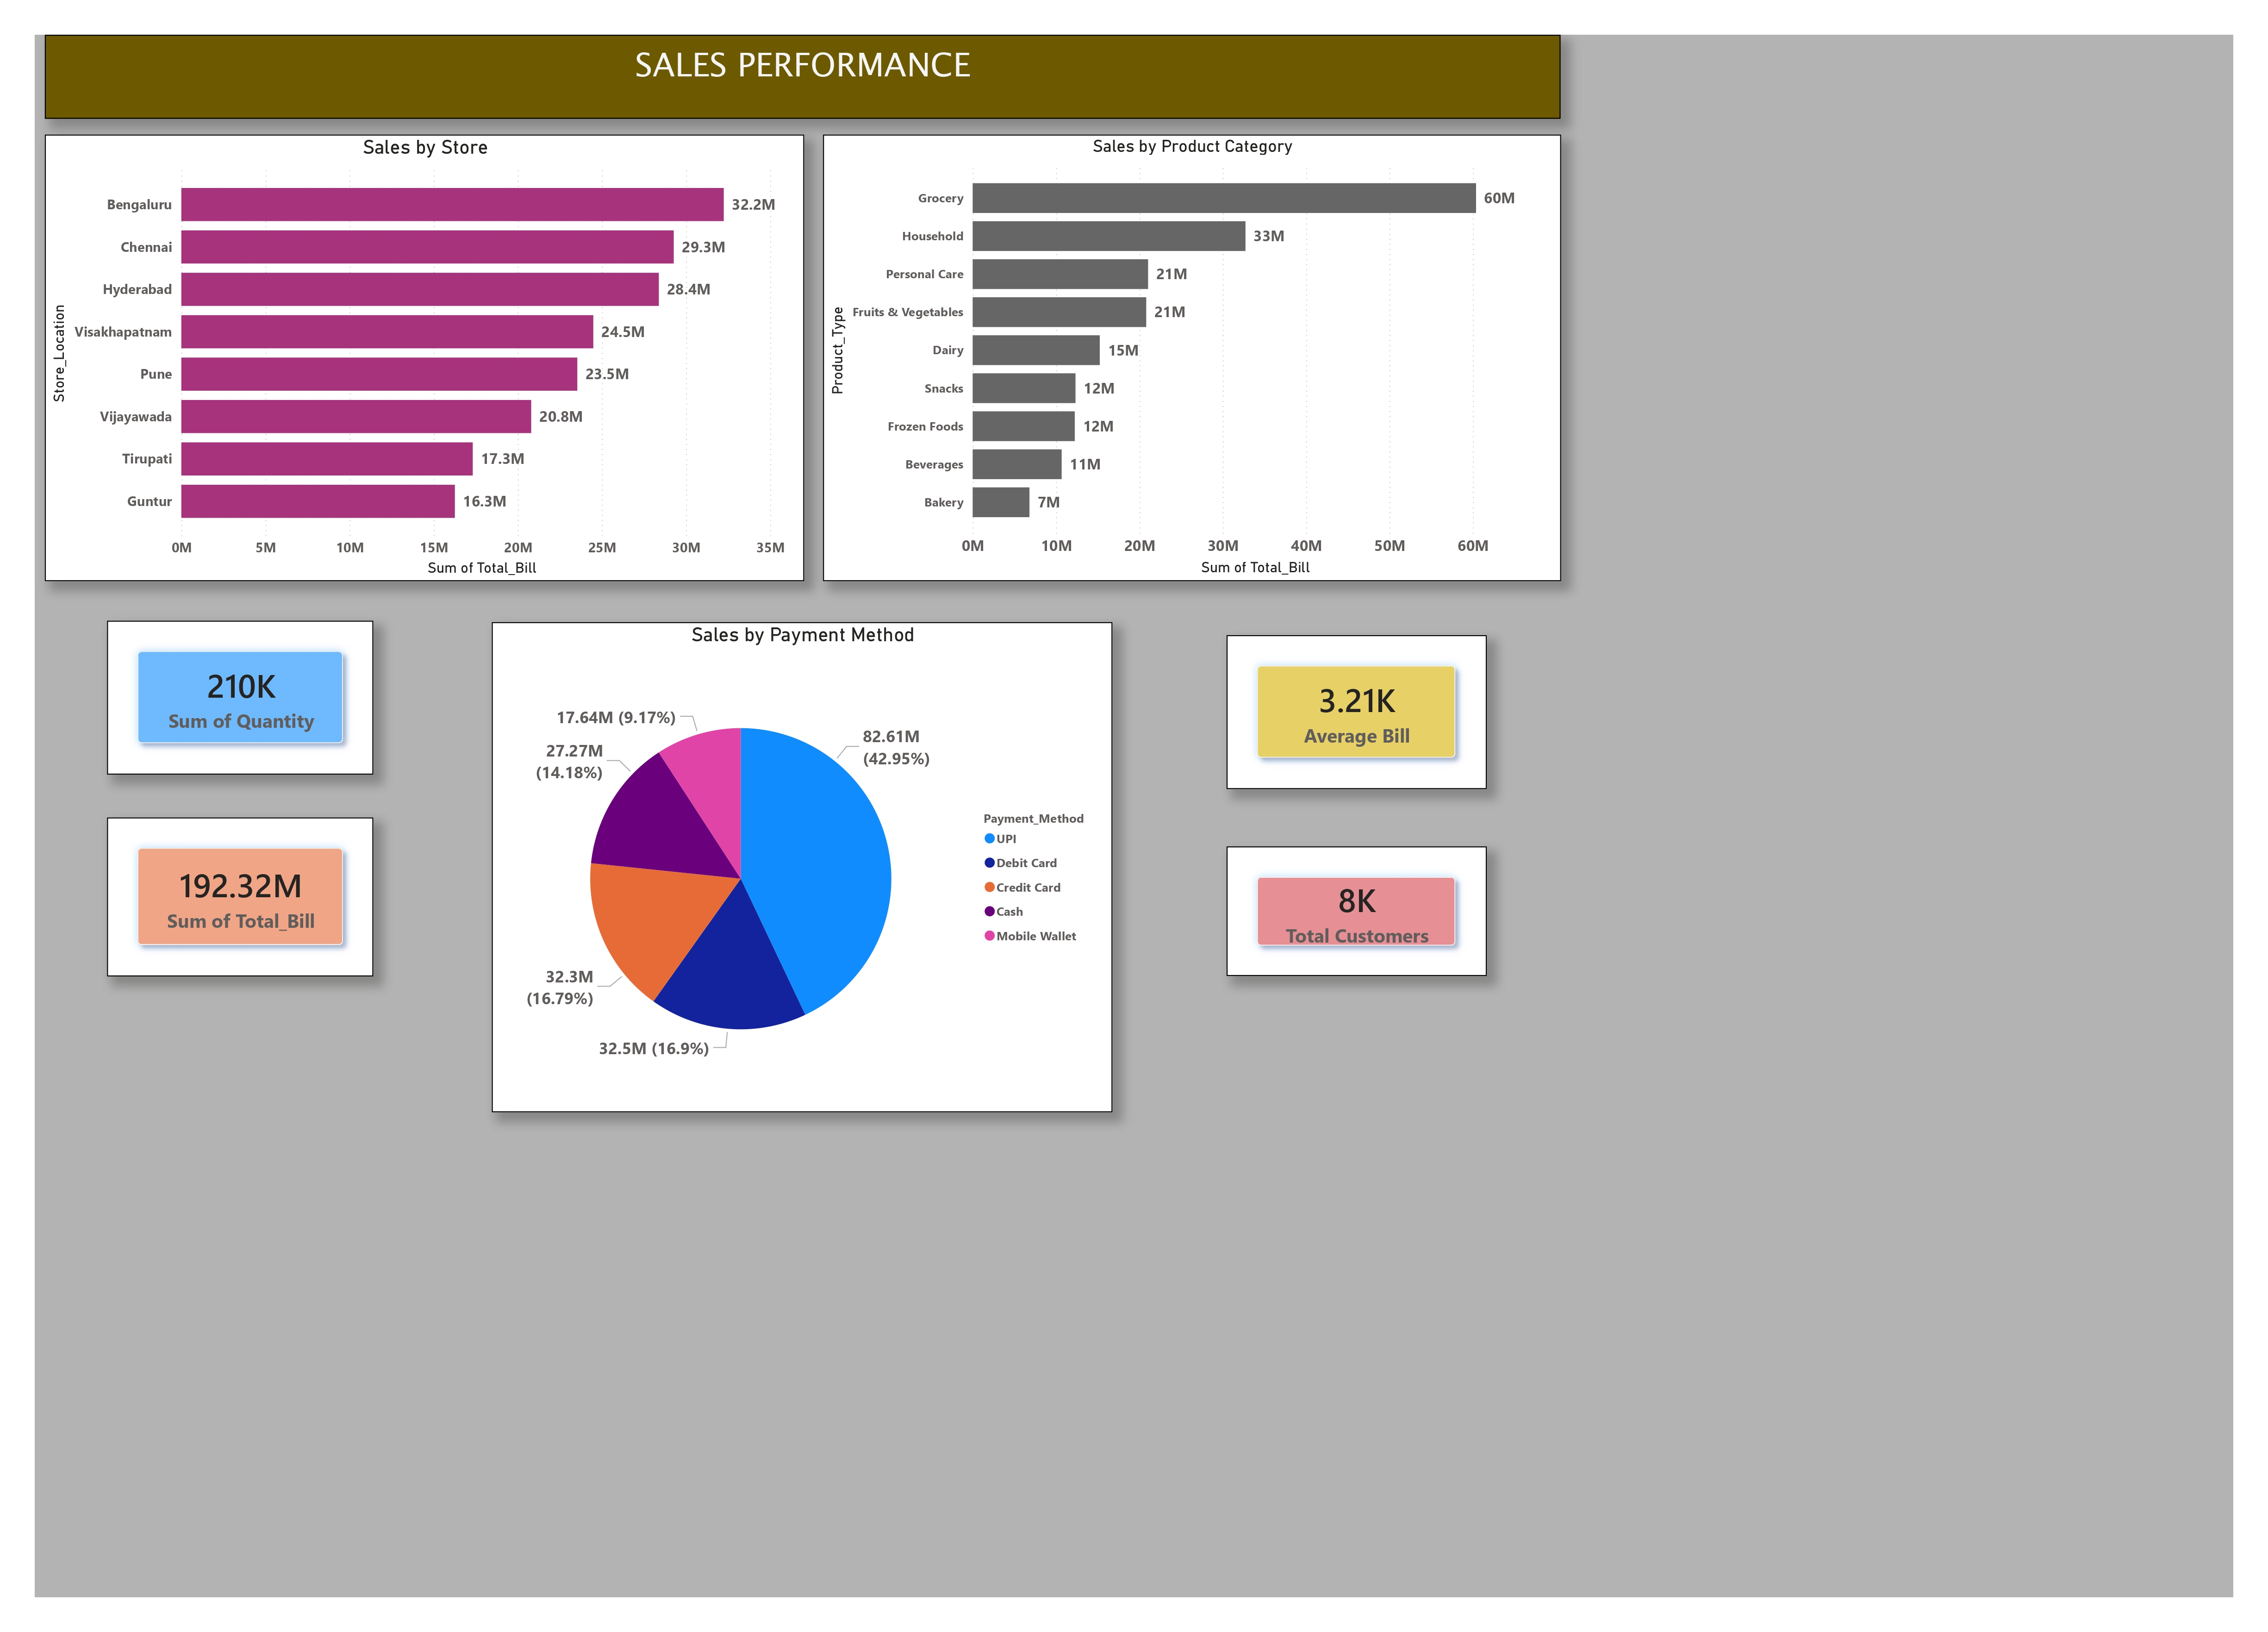

This screenshot's page, from the dashboard's own definition file:
{"tool":"powerbi","page":{"name":"SP","canvas":[1520,1080],"ordinal":1},"visuals":[{"type":"textbox","box":[10,0,1497.1,82.9],"z":0},{"type":"cardVisual","fields":{"Data":["Sum(supermarketdata.Total_Bill)"]},"box":[71.7,773.3,263.3,156.7],"z":1000},{"type":"cardVisual","fields":{"Data":["Sum(supermarketdata.Quantity)"]},"box":[71.7,578.3,263.3,151.7],"z":2000},{"type":"cardVisual","fields":{"Data":["supermarketdata.Total Customers"]},"box":[1176.7,801.7,256.7,128.3],"z":3000},{"type":"cardVisual","fields":{"Data":["supermarketdata.Average Bill"]},"box":[1176.7,593.3,256.7,151.7],"z":4000},{"type":"clusteredBarChart","title":"Sales by Store","fields":{"Category":["supermarketdata.Store_Location"],"Y":["Sum(supermarketdata.Total_Bill)"]},"box":[10,98.6,750,441.4],"z":5000},{"type":"clusteredBarChart","title":"Sales by Product Category","fields":{"Category":["supermarketdata.Product_Type"],"Y":["Sum(supermarketdata.Total_Bill)"]},"box":[778.6,98.6,728.6,441.4],"z":6000},{"type":"pieChart","title":"Sales by Payment Method","fields":{"Category":["supermarketdata.Payment_Method"],"Y":["Sum(supermarketdata.Total_Bill)"]},"box":[451.4,580,612.9,484.3],"z":7000}]}

Visuals, with their boxes on the page's 1520x1080 design canvas (x1, y1, x2, y2). These are canvas units, not pixel positions in the 2268x1632 screenshot, which may show the page scaled, cropped or inside an application window:
textbox: (10, 0, 1507, 83)
cardVisual - Sum(supermarketdata.Total_Bill): (72, 773, 335, 930)
cardVisual - Sum(supermarketdata.Quantity): (72, 578, 335, 730)
cardVisual - supermarketdata.Total Customers: (1177, 802, 1433, 930)
cardVisual - supermarketdata.Average Bill: (1177, 593, 1433, 745)
"Sales by Store" clusteredBarChart: (10, 99, 760, 540)
"Sales by Product Category" clusteredBarChart: (779, 99, 1507, 540)
"Sales by Payment Method" pieChart: (451, 580, 1064, 1064)
